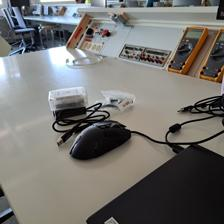mouse: (67, 118, 132, 162)
